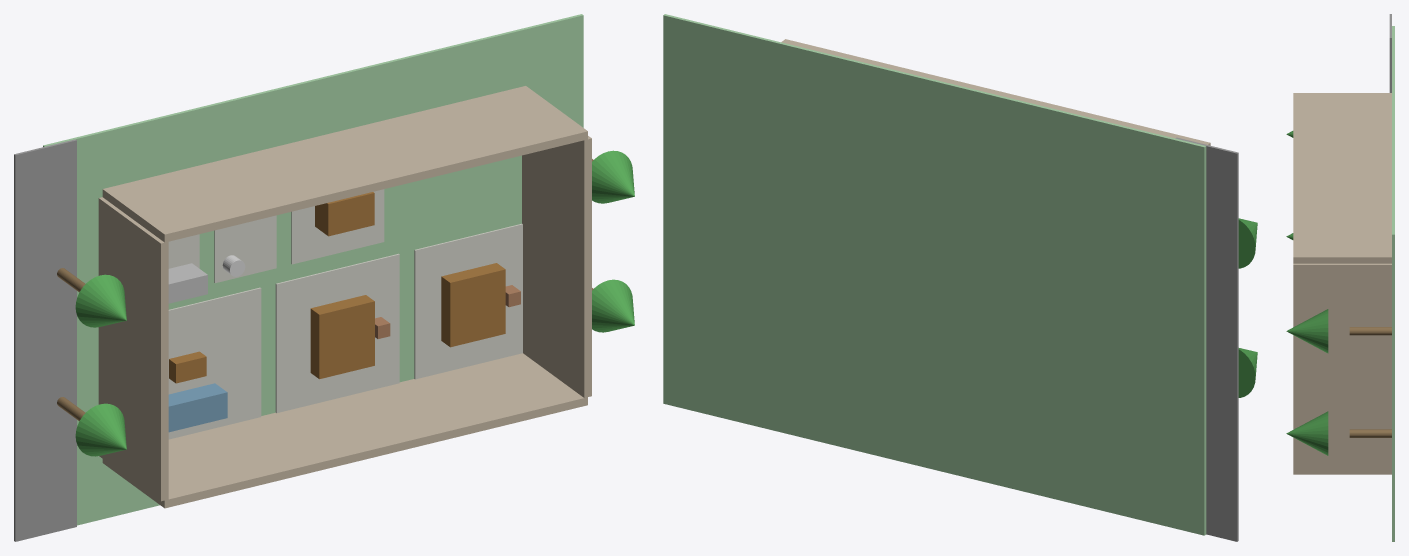
File: house_20251101_105834.glb
3 views of the same model, side by side, from view 1: azimuth 30°, elevation 25°; view 2: azimuth 150°, elevation 25°; view 3: azimuth 270°, elevation 25° (orthographic). The views are drawn at different scales.
Visible parts, largest first — view 1: Ground, Wall_South, Wall_North, Driveway, Wall_East, Wall_West, Bedroom 1_floor, Bedroom 2_floor, Living Room_floor, Bedroom 1_Bed, Bedroom 2_Bed, Dining_floor (+10 smaller); view 2: Ground, Driveway, Wall_South, Tree_2_foliage, Tree_1_foliage; view 3: Wall_West, Wall_South, Ground, Tree_4_foliage, Tree_3_foliage, Wall_North, Tree_3_trunk, Tree_4_trunk, Driveway.
Part boxes in pixels (x1=…): Ground: x1=43, y1=14, x2=583, y2=525; Wall_South: x1=102, y1=86, x2=587, y2=242; Wall_North: x1=102, y1=353, x2=587, y2=508; Driveway: x1=14, y1=139, x2=76, y2=541; Wall_East: x1=98, y1=197, x2=168, y2=501; Wall_West: x1=522, y1=136, x2=591, y2=397; Bedroom 1_floor: x1=275, y1=253, x2=399, y2=413; Bedroom 2_floor: x1=414, y1=223, x2=522, y2=379; Living Room_floor: x1=168, y1=287, x2=261, y2=439; Bedroom 1_Bed: x1=310, y1=295, x2=374, y2=379; Bedroom 2_Bed: x1=441, y1=263, x2=505, y2=347; Dining_floor: x1=291, y1=189, x2=384, y2=264; Ground: x1=663, y1=14, x2=1206, y2=535; Driveway: x1=1175, y1=137, x2=1238, y2=541; Wall_South: x1=781, y1=39, x2=1210, y2=145; Tree_2_foliage: x1=1238, y1=218, x2=1257, y2=268; Tree_1_foliage: x1=1238, y1=348, x2=1257, y2=397; Wall_West: x1=1293, y1=263, x2=1391, y2=469; Wall_South: x1=1293, y1=93, x2=1391, y2=263; Ground: x1=1392, y1=26, x2=1394, y2=541; Tree_4_foliage: x1=1286, y1=309, x2=1328, y2=353; Tree_3_foliage: x1=1286, y1=411, x2=1328, y2=455; Wall_North: x1=1293, y1=470, x2=1391, y2=474; Tree_3_trunk: x1=1349, y1=429, x2=1391, y2=437; Tree_4_trunk: x1=1349, y1=327, x2=1391, y2=335; Driveway: x1=1389, y1=14, x2=1391, y2=92.
Size of the model in its own units: 18.8 by 12 by 3.85.
